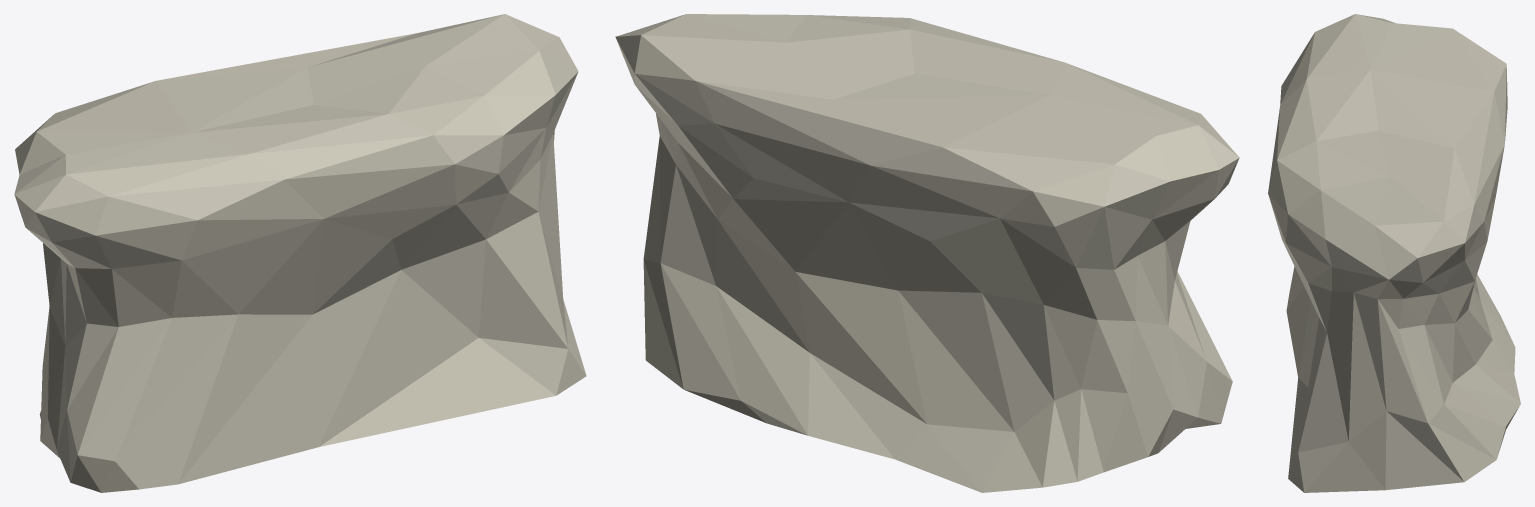
File: Cliff_02.fbx
3 views of the same model, side by side, from view 1: azimuth 30°, elevation 25°; view 2: azimuth 150°, elevation 25°; view 3: azimuth 270°, elevation 25° (orthographic). The views are drawn at different scales.
Parts seen in each view (by area): view 1: Rock_05; view 2: Rock_05; view 3: Rock_05.
Boxes of the visible parts, box(x1,y1,x2,y2) form: Rock_05: box(14, 14, 586, 492); Rock_05: box(615, 14, 1239, 492); Rock_05: box(1268, 14, 1520, 492).
Size of the model in its own units: 2025 by 1101 by 883.
